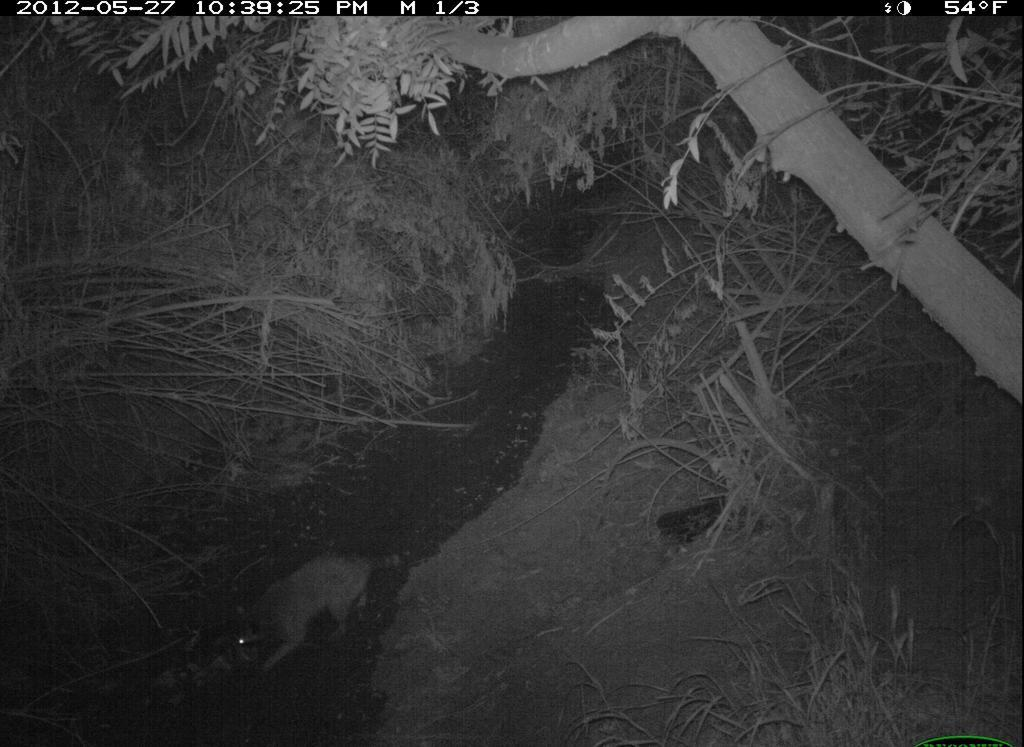raccoon: (230, 542, 406, 683)
